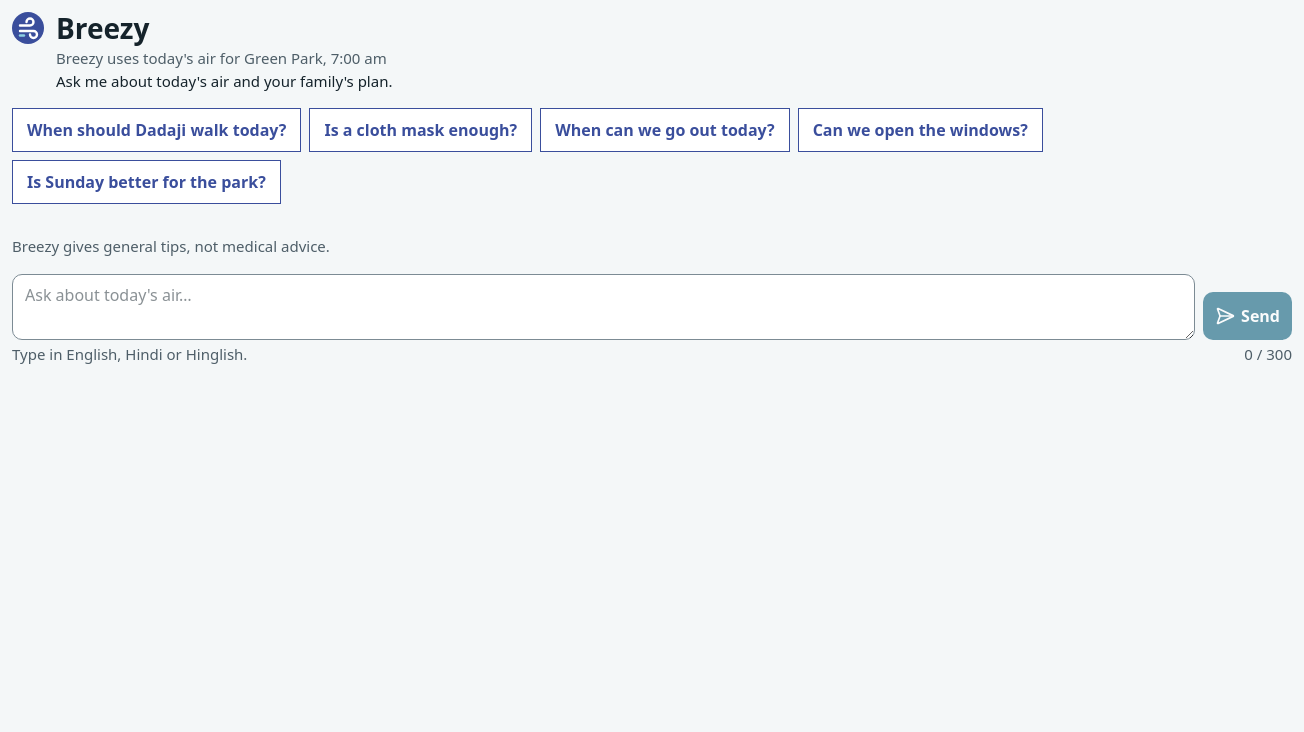
Test case: Breezy cards and errors › offers Copy on a share card, with no person to pick
Step 1. Type "Draft a note" into the text box named "Your question for Breezy" → x=604, y=307, box [12, 274, 1195, 340]
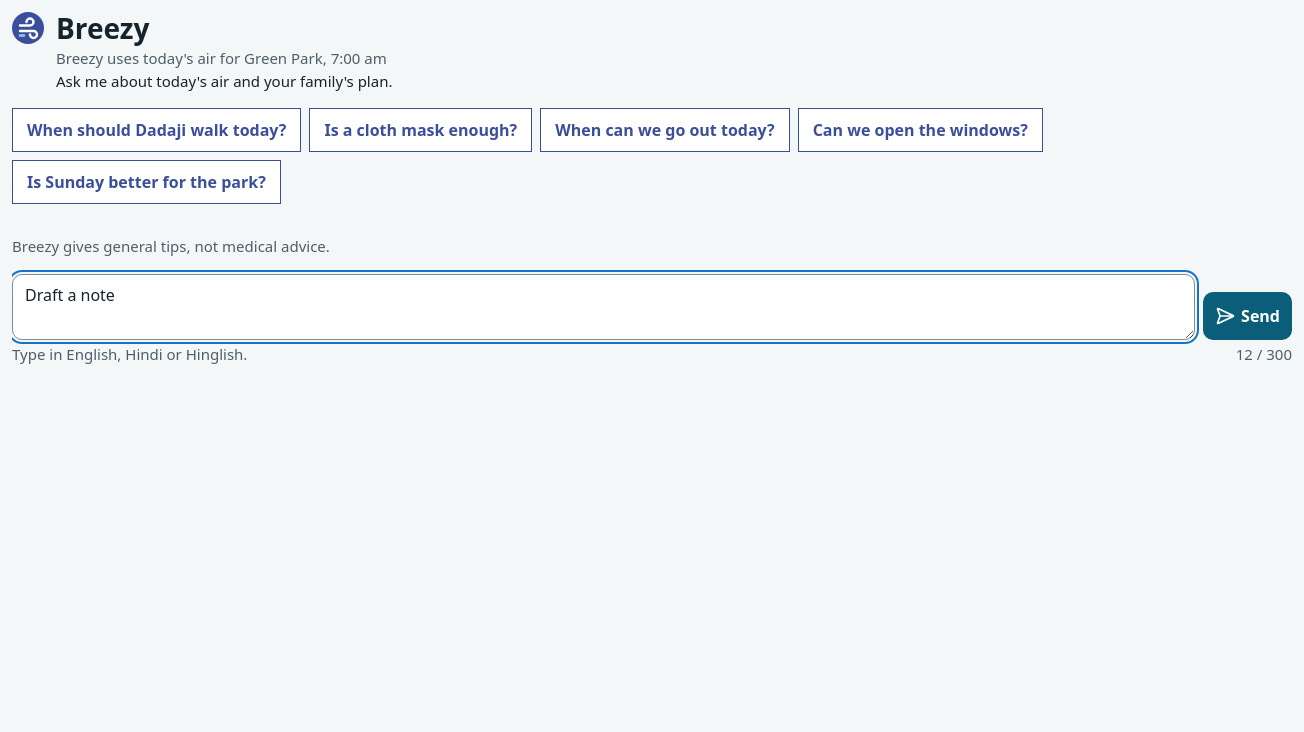
Step 2. Click the button "Send" → x=1248, y=316, box [1203, 292, 1292, 340]
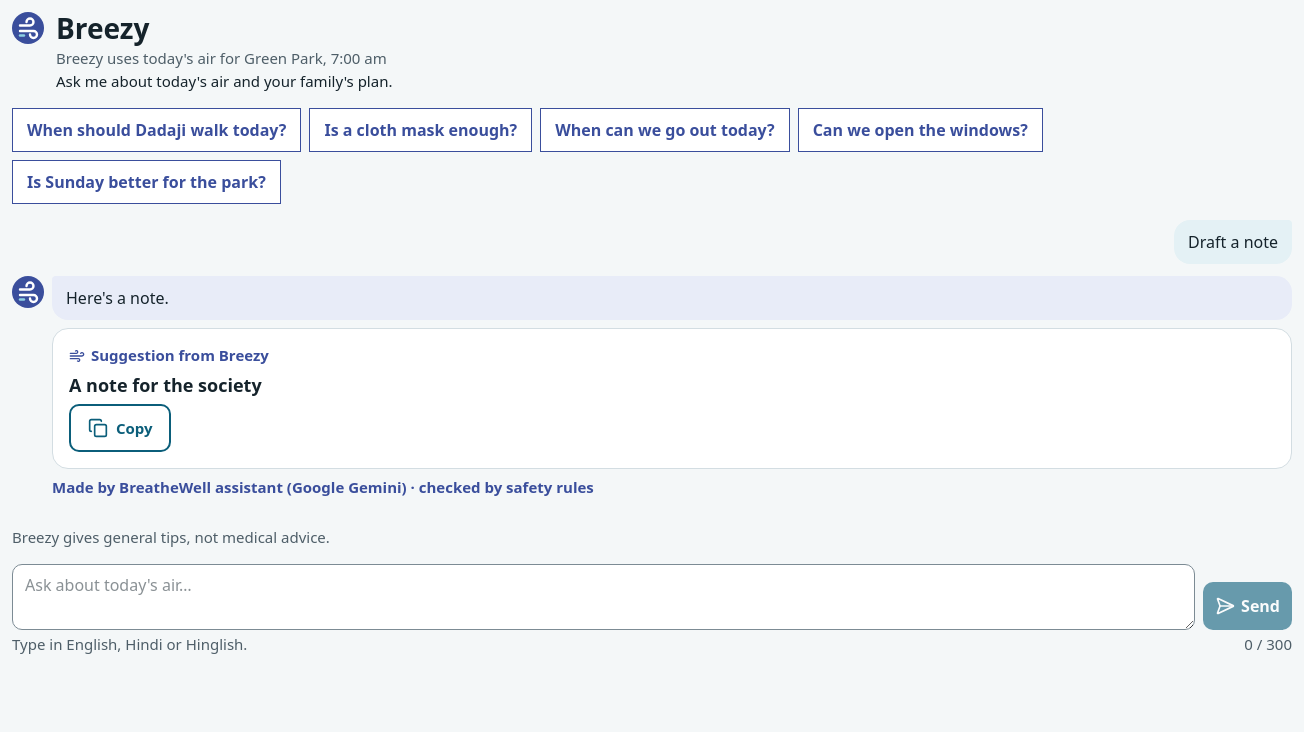
Check: the button "Copy" is shown, box [69, 404, 171, 452]
